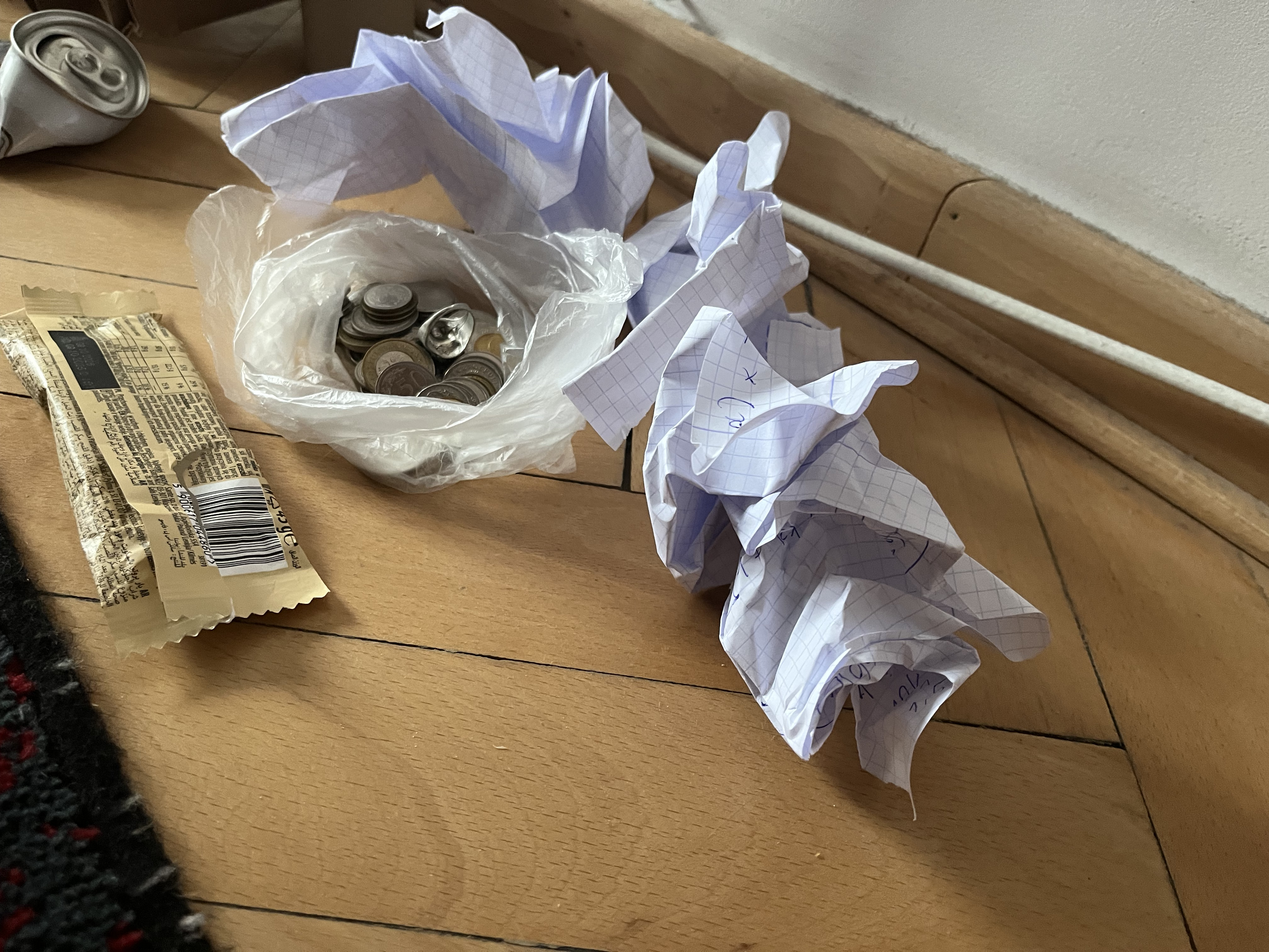METAL: (324, 260, 536, 440), (0, 5, 156, 169)
PAPER: (720, 433, 1050, 818), (198, 18, 680, 245), (654, 305, 933, 588), (595, 116, 822, 435)
PLASTIC: (182, 177, 639, 503), (3, 307, 182, 709)
